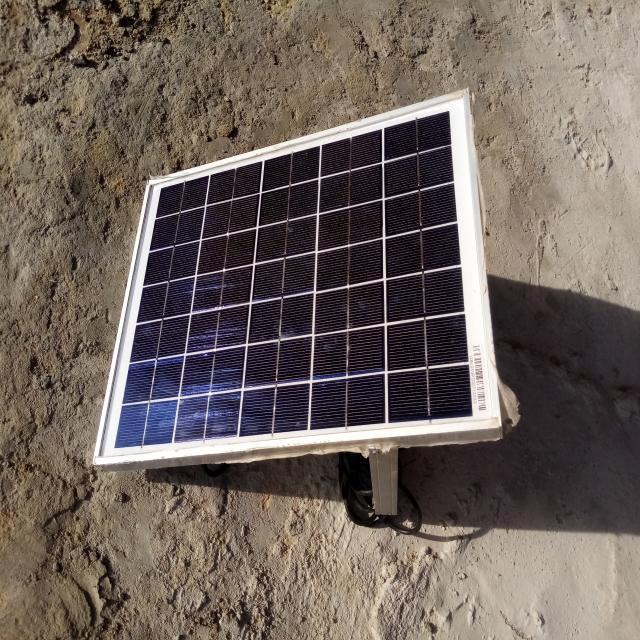no faulty: (105, 84, 505, 445)
